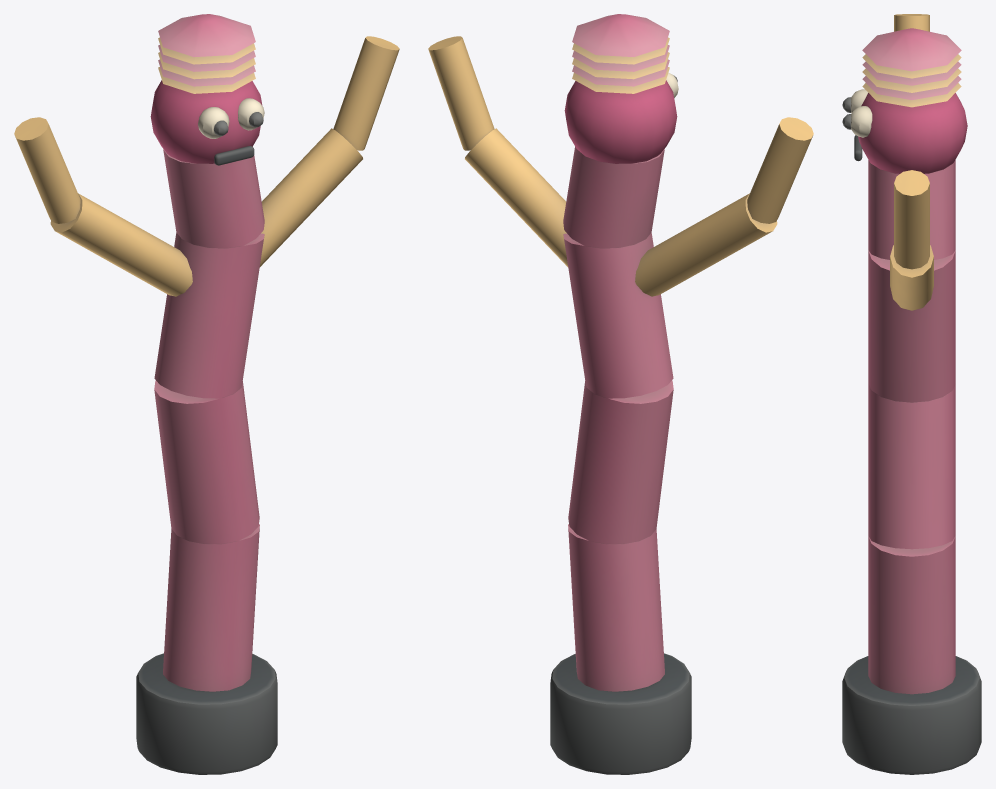
Rendered from TubeMan.fbx.
3 views of the same model, side by side, from view 1: azimuth 30°, elevation 25°; view 2: azimuth 150°, elevation 25°; view 3: azimuth 270°, elevation 25° (orthographic).
Visible parts, largest first — view 1: TubeMan; view 2: TubeMan; view 3: TubeMan.
Boxes of the visible parts, x1,y1,x2,y2 form: TubeMan: (14,14,399,774); TubeMan: (428,14,813,774); TubeMan: (842,14,981,774).
Size of the model in its own units: 217 by 397 by 70.
